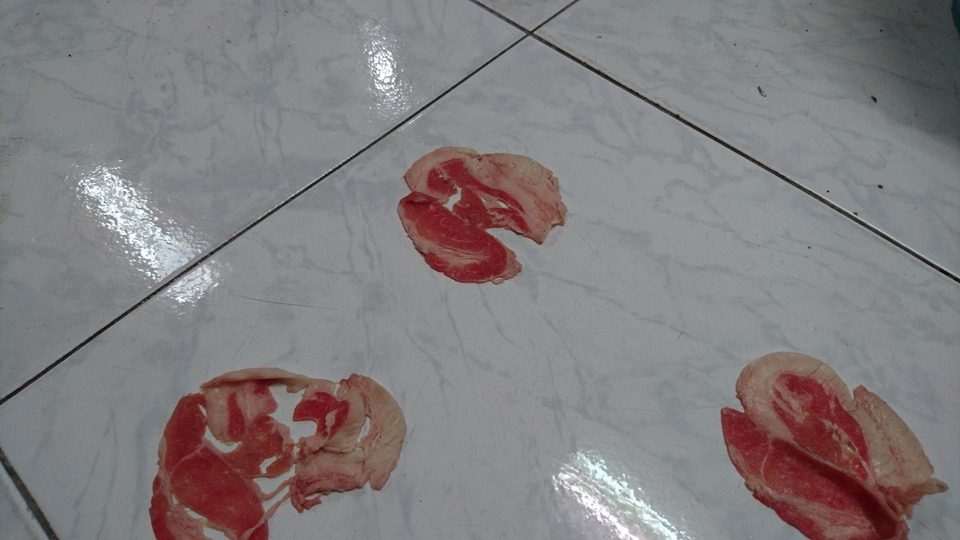restructured meat: (149, 352, 426, 540), (721, 351, 947, 540), (400, 139, 567, 290)
